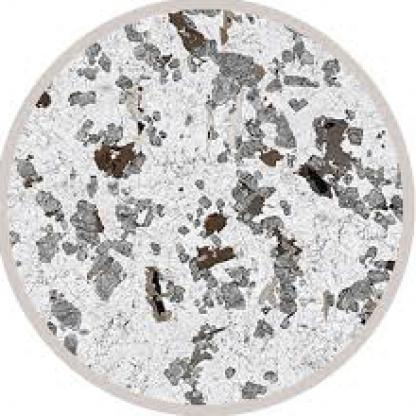Igneous_Diorite: (2, 4, 412, 414)
